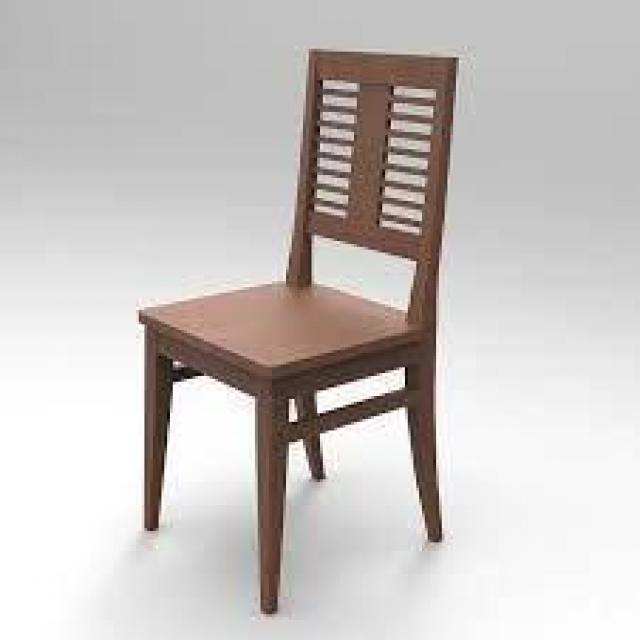chair: (106, 21, 511, 618)
